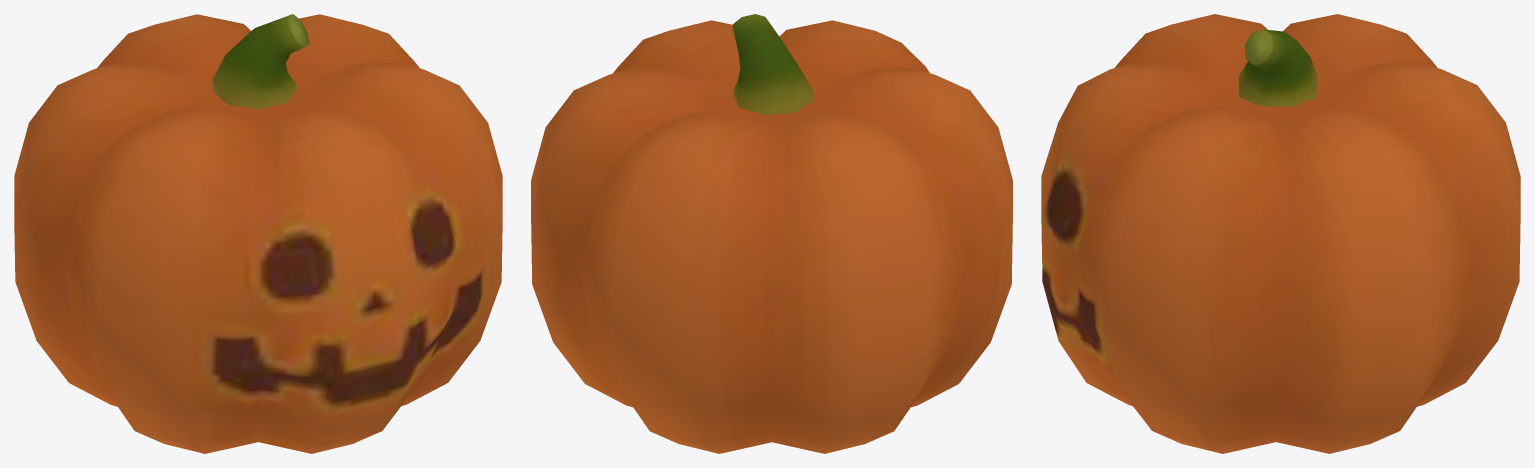
The model's file is spooky-lantern.glb.
3 renders of one model, left to right at view 1: azimuth 30°, elevation 25°; view 2: azimuth 150°, elevation 25°; view 3: azimuth 270°, elevation 25°, orthographic.
Size of the model in its own units: 6.24 by 5.54 by 6.3.
Materials: 1 (1 with a texture image).
